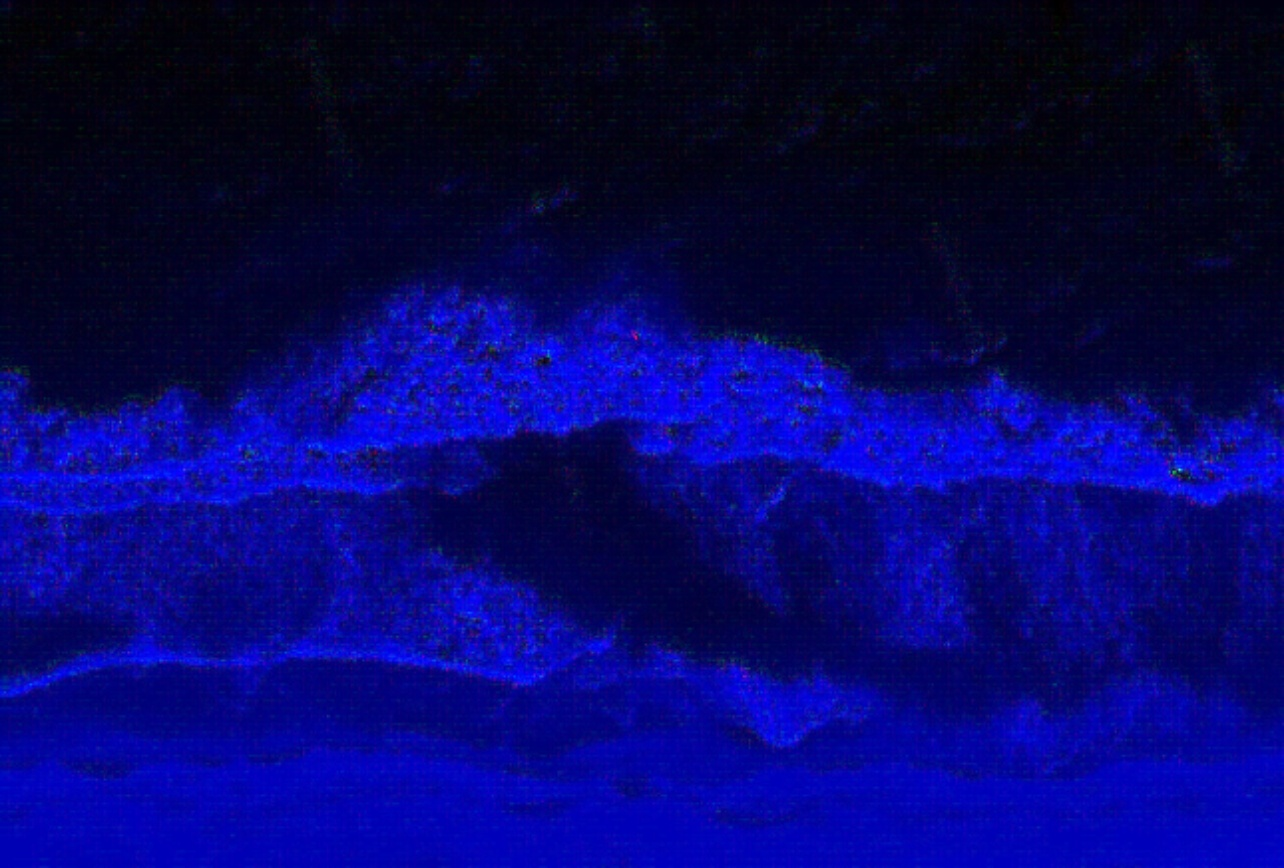rip_current: (317, 213, 830, 676)
